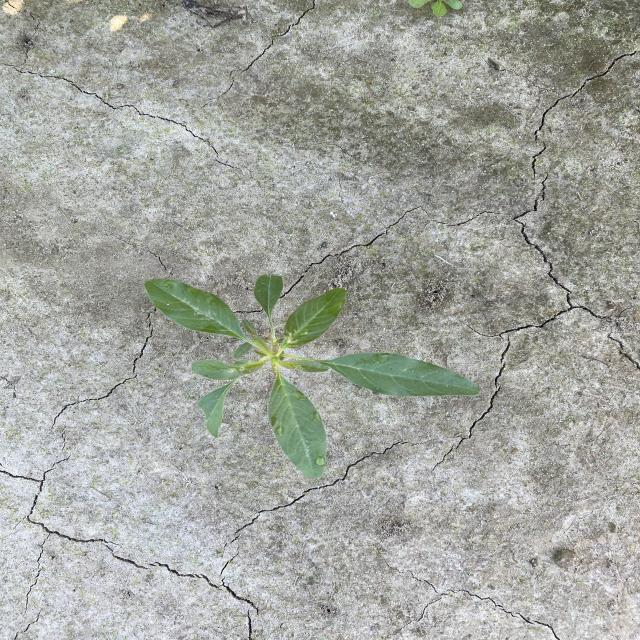Waterhemp: (141, 272, 482, 481)
